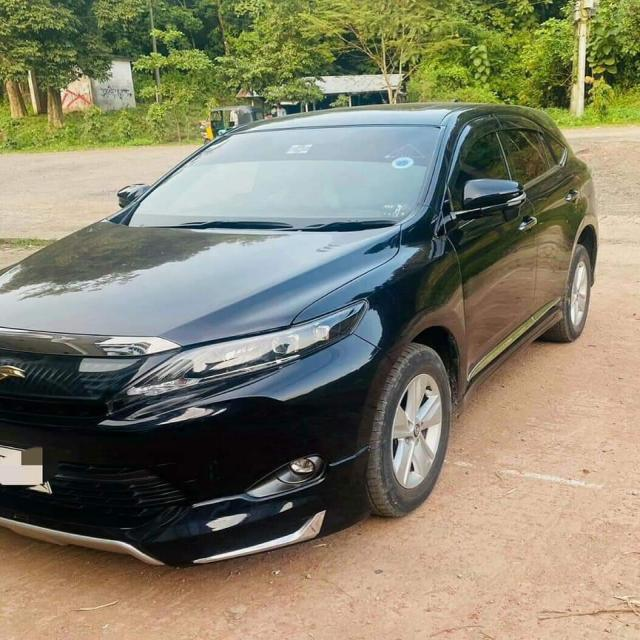black: (0, 108, 596, 588)
